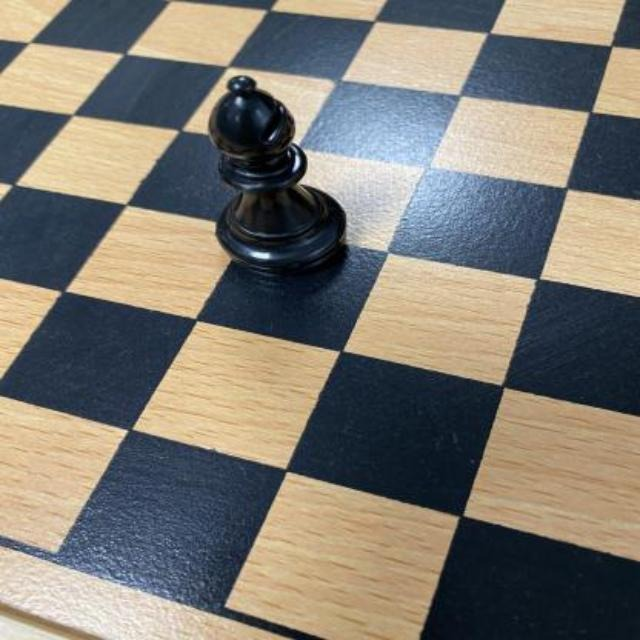black-bishop: (206, 75, 350, 273)
